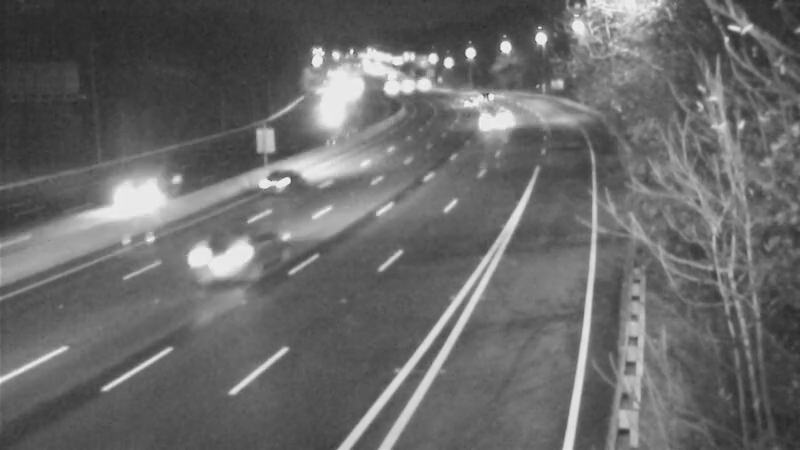vehicle: (244, 138, 324, 218), (169, 212, 249, 292), (93, 151, 173, 231), (469, 68, 519, 118), (431, 76, 481, 126), (454, 99, 504, 149)
